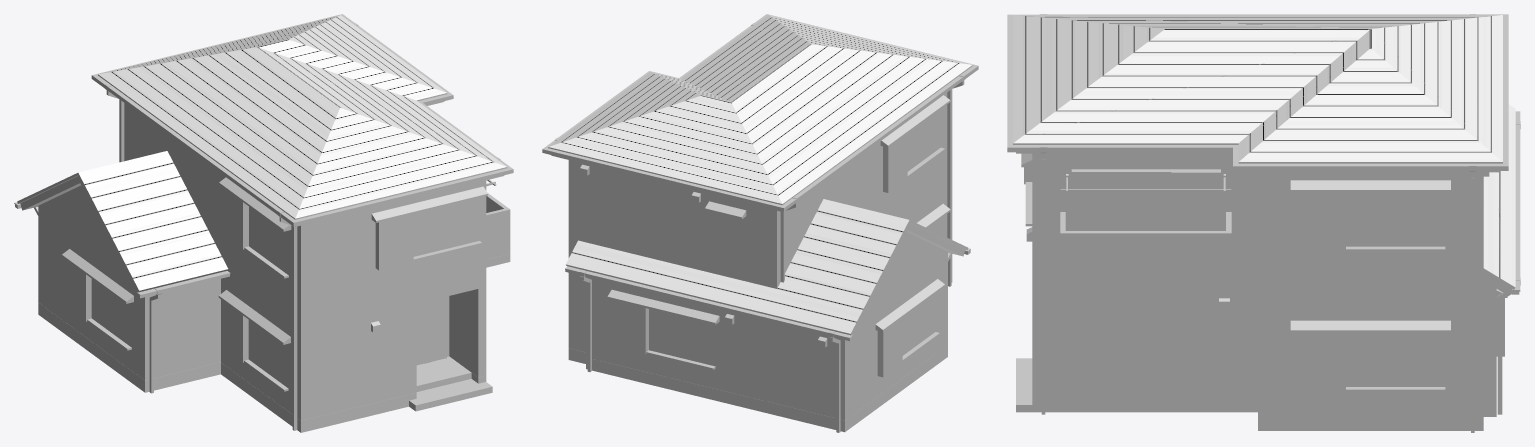
Rendered from House_2021_G.fbx.
The picture shows the model from 3 angles, left to right: view 1: azimuth 30°, elevation 25°; view 2: azimuth 150°, elevation 25°; view 3: azimuth 270°, elevation 25°; orthographic projection. The views are drawn at different scales.
Visible parts, largest first — view 1: House_2021_G; view 2: House_2021_G; view 3: House_2021_G.
Part boxes in pixels (x1,y1,x2,y2): House_2021_G: [14, 14, 513, 432]; House_2021_G: [542, 14, 978, 432]; House_2021_G: [1007, 14, 1520, 432].
Size of the model in its own units: 839 by 653 by 928.
